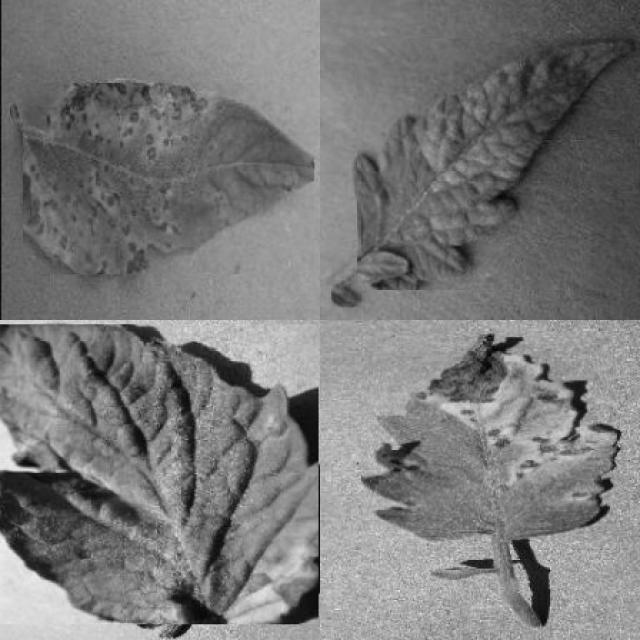Early Blight: (0, 325, 319, 625)
Leaf Mold: (358, 39, 635, 291)
Septoria: (23, 83, 314, 274), (362, 332, 618, 542)
